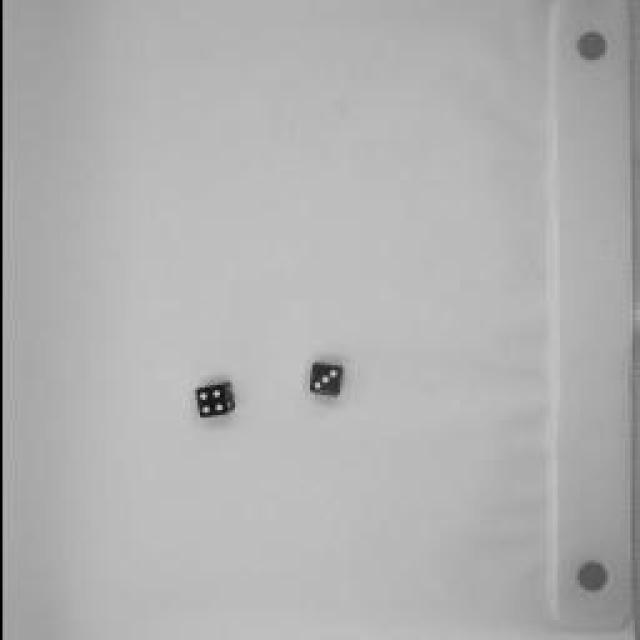dice_3: (302, 358, 350, 404)
dice_4: (185, 378, 240, 428)
